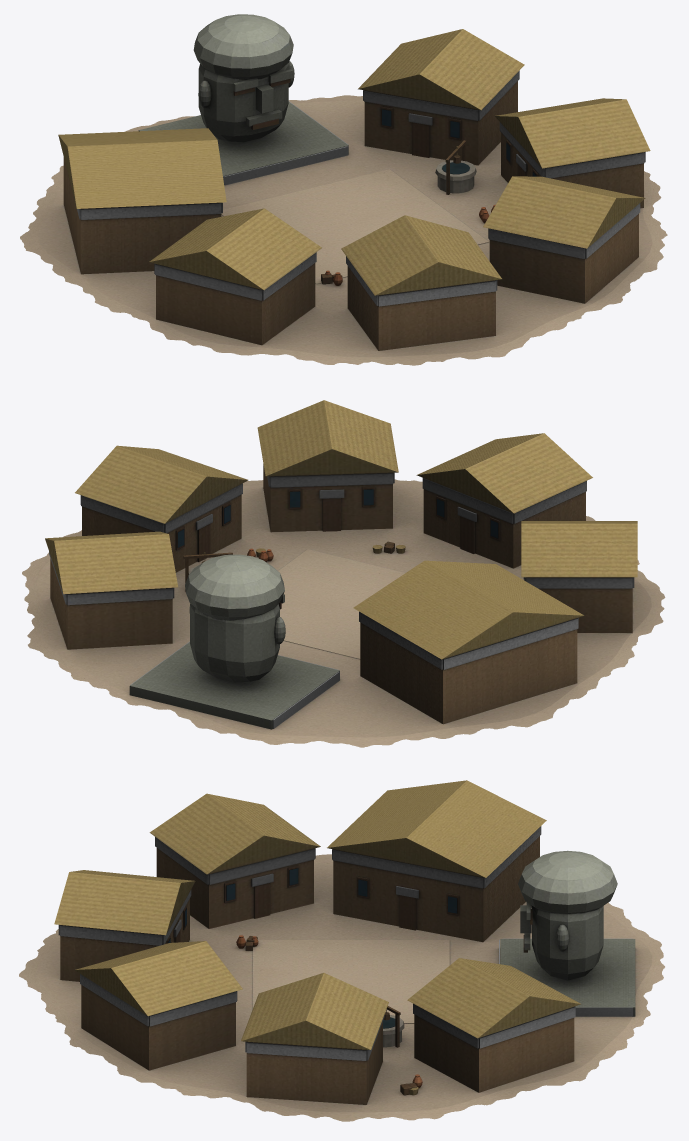
The model's file is bronze-town-small-a-americas.glb.
3 views of the same model, one above another, from view 1: azimuth 30°, elevation 25°; view 2: azimuth 150°, elevation 25°; view 3: azimuth 270°, elevation 25° (orthographic).
Parts seen in each view (by area): view 1: LOD0; view 2: LOD0; view 3: LOD0.
Part boxes in pixels (x1,y1,x2,y2): LOD0: (20, 14, 667, 365); LOD0: (22, 400, 665, 747); LOD0: (19, 780, 664, 1121).
Size of what is drawn, in the model's own units: 3.94 by 0.8642 by 4.03.
Materials: 3 (3 with a texture image).
